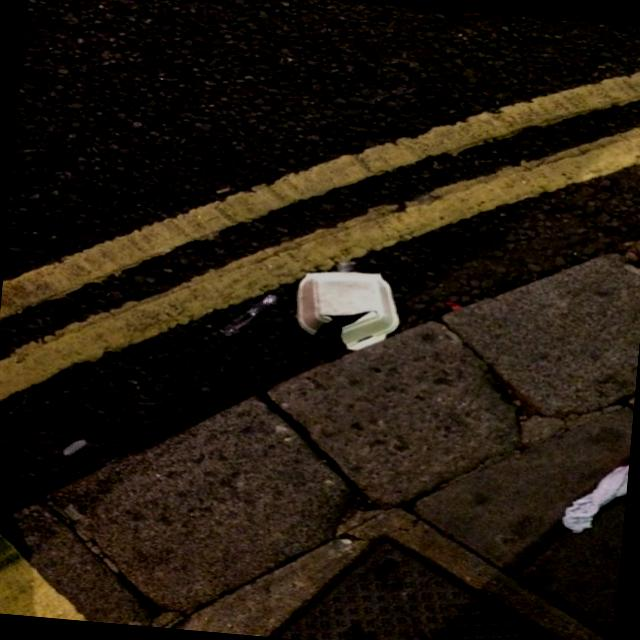Trash: (291, 266, 408, 354), (560, 450, 630, 544), (217, 285, 280, 337)
